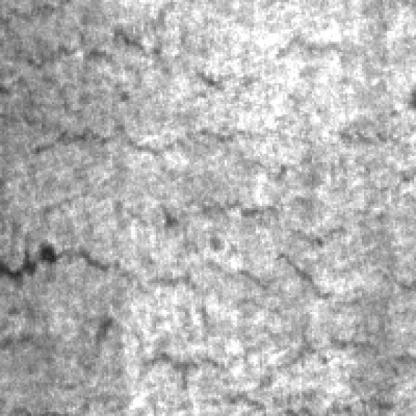crazing: (12, 62, 362, 285), (96, 247, 416, 390), (8, 19, 240, 156)
